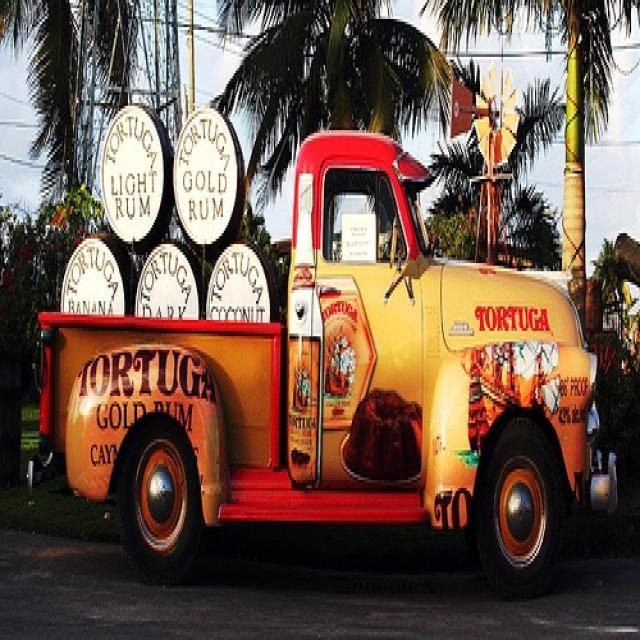car: (37, 100, 617, 592)
